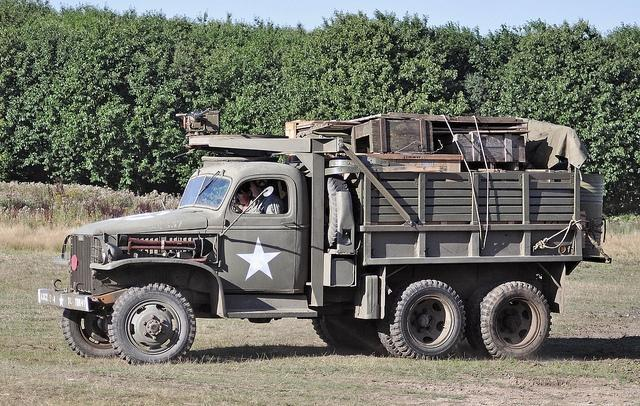truck: (22, 120, 600, 372)
